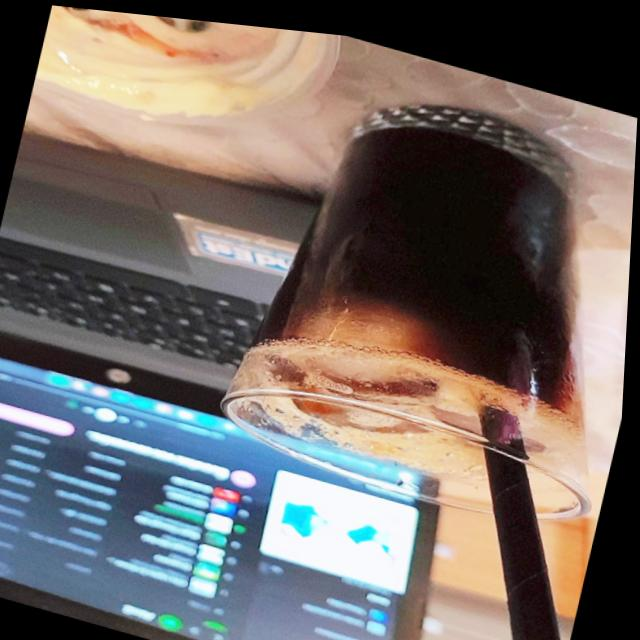drink: (218, 123, 587, 512)
